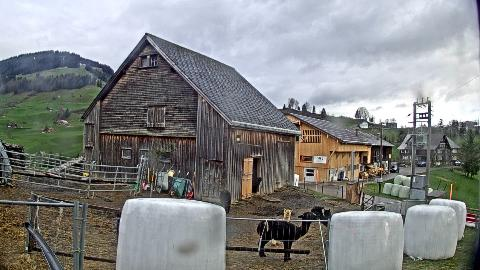car: (390, 165, 400, 173), (418, 161, 426, 167)
sheep: (256, 210, 317, 262), (311, 205, 336, 229), (218, 190, 232, 214), (250, 176, 264, 194), (324, 210, 336, 220)
